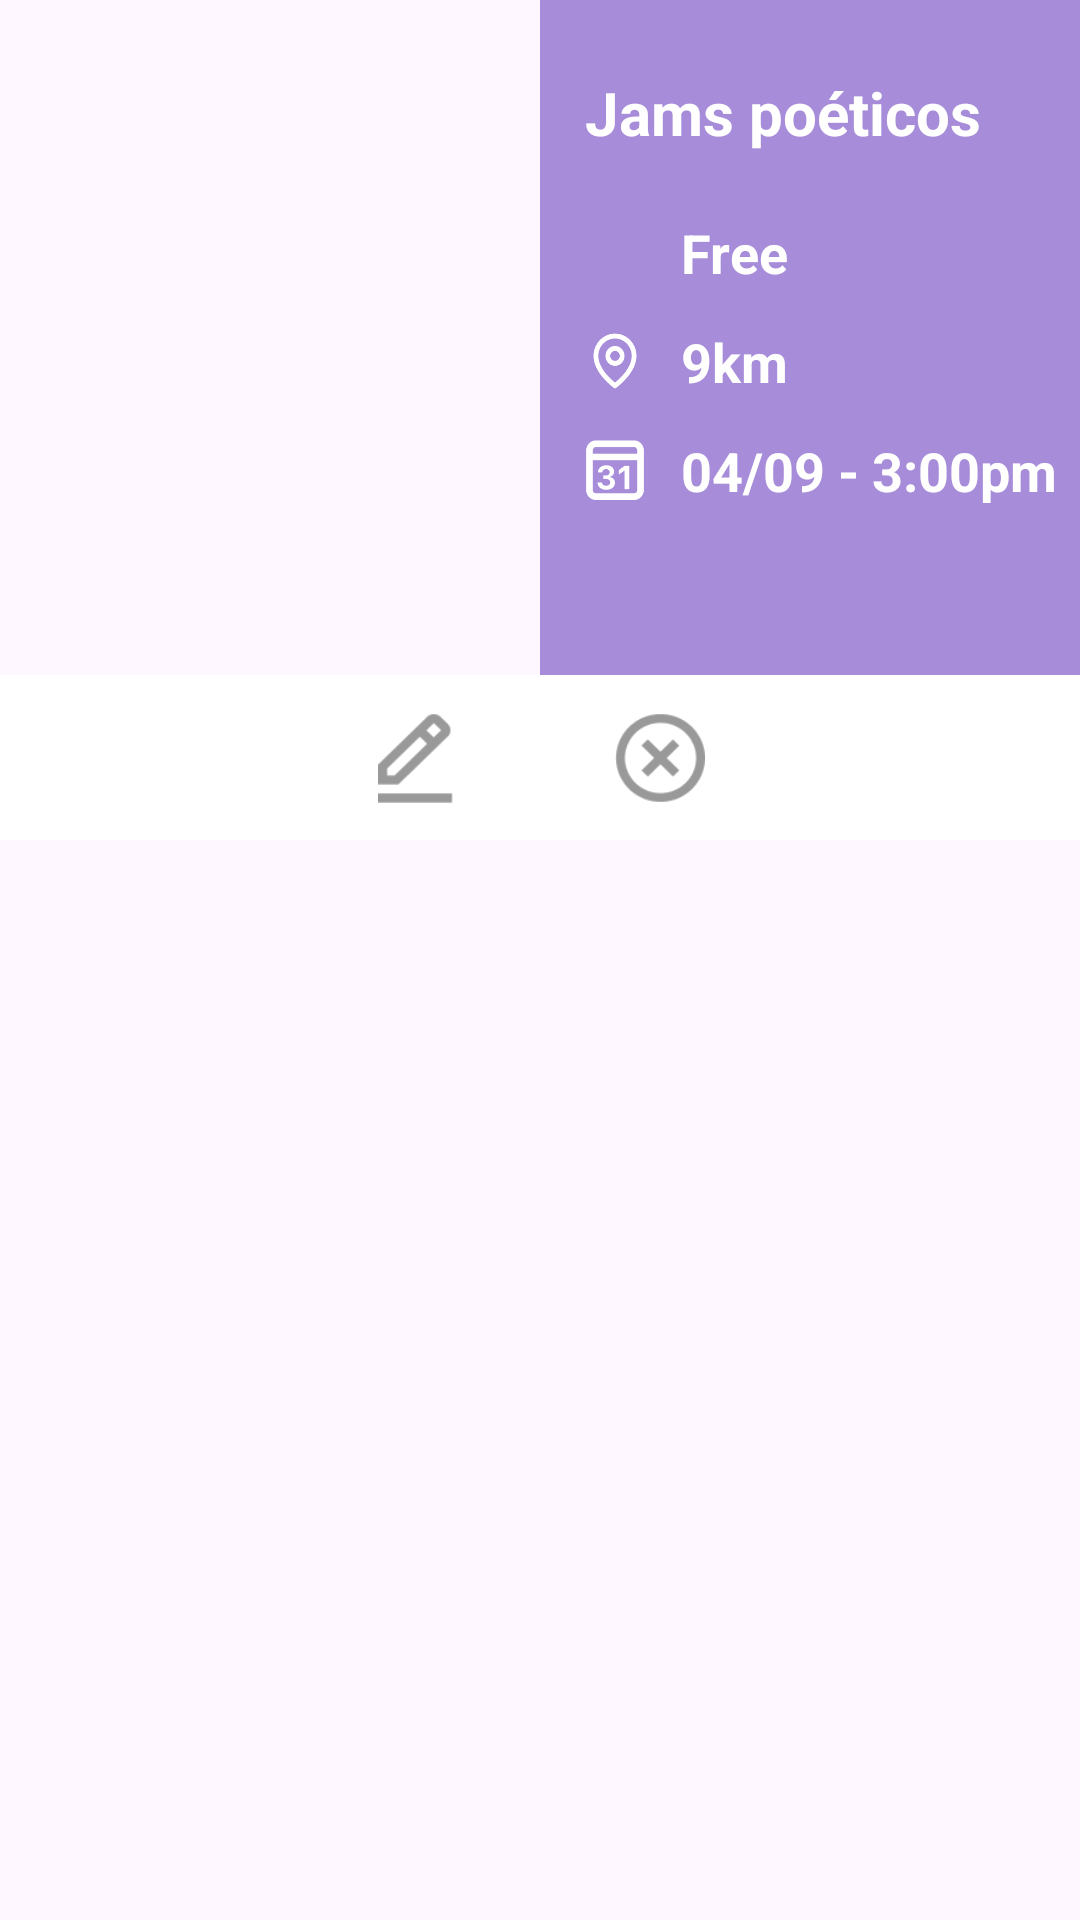

Where to tap for icons on this 1080px×1920px app screen, as point (x, y):
calendar: point (615, 470)
delete: point (660, 758)
location: point (615, 361)
